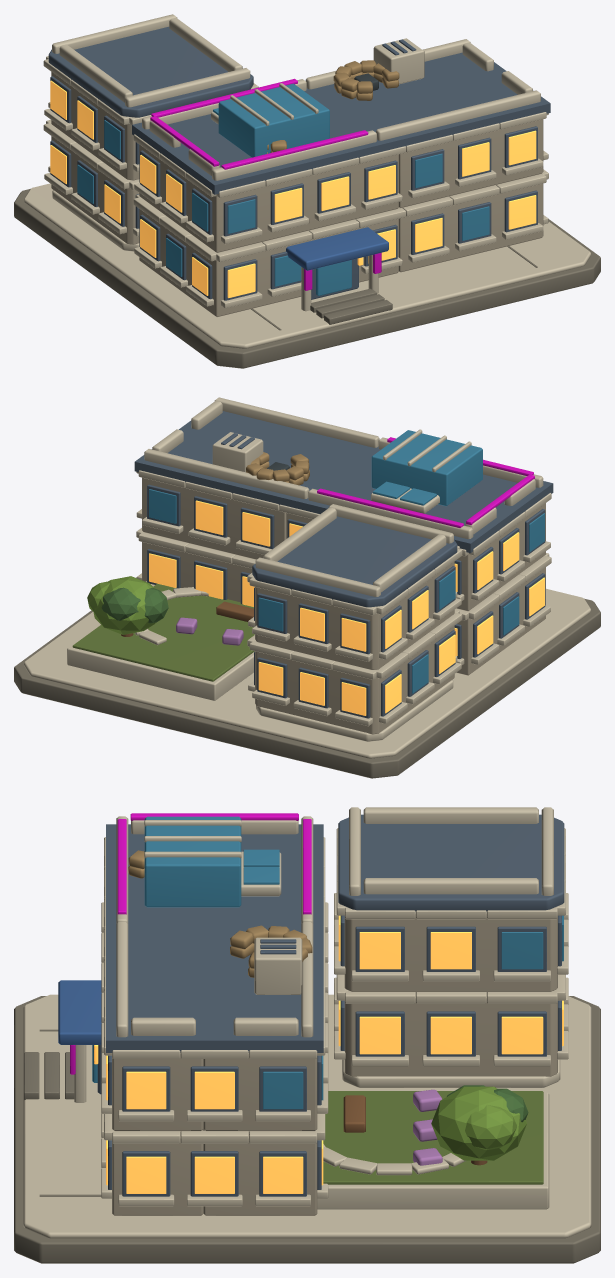
Rendered from civilian-library-garrison.glb.
3 views of the same model, one above another, from view 1: azimuth 30°, elevation 25°; view 2: azimuth 150°, elevation 25°; view 3: azimuth 270°, elevation 25° (orthographic). The views are drawn at different scales.
Parts seen in each view (by area): view 1: CivilianShell; view 2: CivilianShell; view 3: CivilianShell.
Boxes of the visible parts, box(x1,y1,x2,y2) form: CivilianShell: box(14, 14, 600, 368); CivilianShell: box(14, 397, 600, 778); CivilianShell: box(14, 807, 600, 1263).
Bounding box in the file's own units: 2.97 × 1.43 × 2.97.
